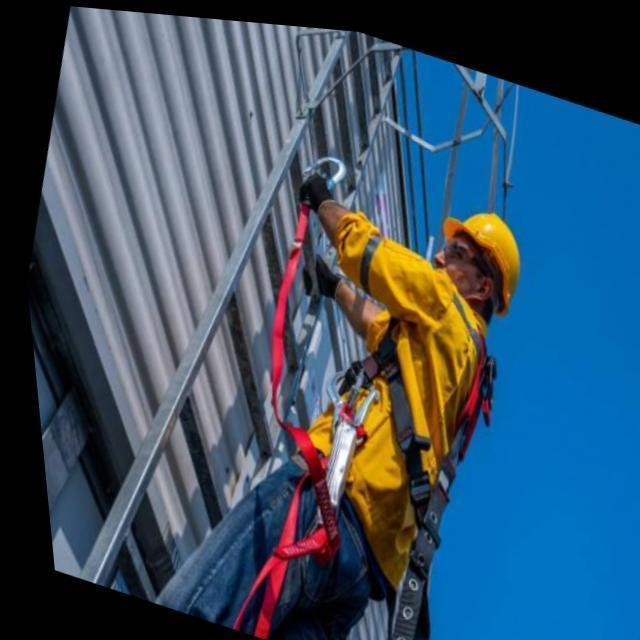Harness: (215, 200, 397, 640), (343, 320, 496, 640)
